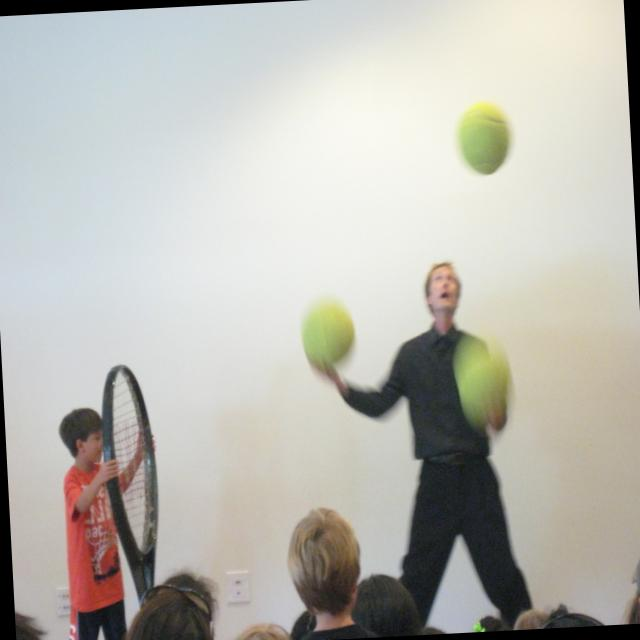Ball: (444, 334, 518, 432), (297, 292, 358, 369), (462, 102, 512, 173)
